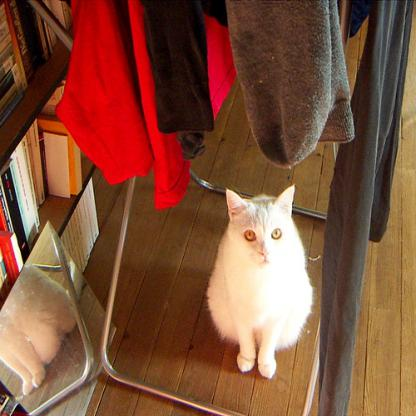cat: (212, 175, 315, 377)
